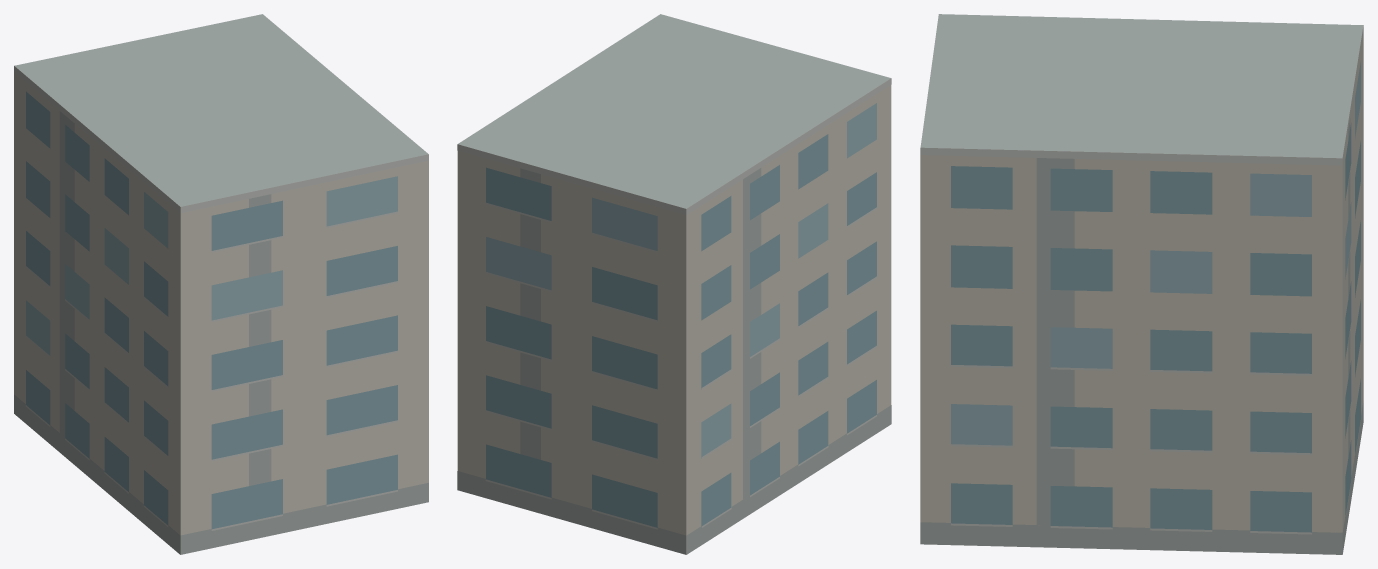
Rendered from survey-upis-32894073.glb.
3 renders of one model, left to right at view 1: azimuth 30°, elevation 25°; view 2: azimuth 150°, elevation 25°; view 3: azimuth 270°, elevation 25°, orthographic. The views are drawn at different scales.
Parts seen in each view (by area): view 1: survey-upis-32894073.tmp; view 2: survey-upis-32894073.tmp; view 3: survey-upis-32894073.tmp.
Part boxes in pixels (x1=…): survey-upis-32894073.tmp: x1=14, y1=14, x2=428, y2=554; survey-upis-32894073.tmp: x1=457, y1=14, x2=891, y2=554; survey-upis-32894073.tmp: x1=920, y1=14, x2=1363, y2=554.
Size of the model in its own units: 10.35 by 13.25 by 13.43.
